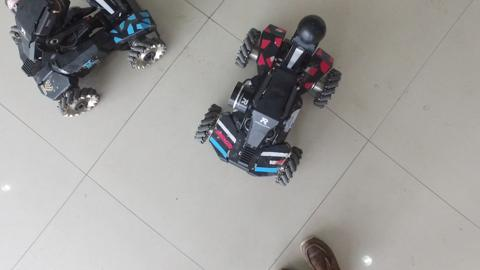chariot: (188, 11, 348, 193), (1, 1, 169, 124)
